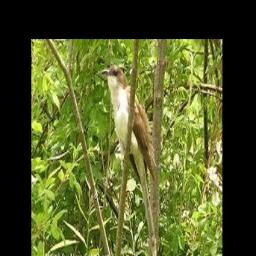Cuckoo: (101, 64, 157, 256)
